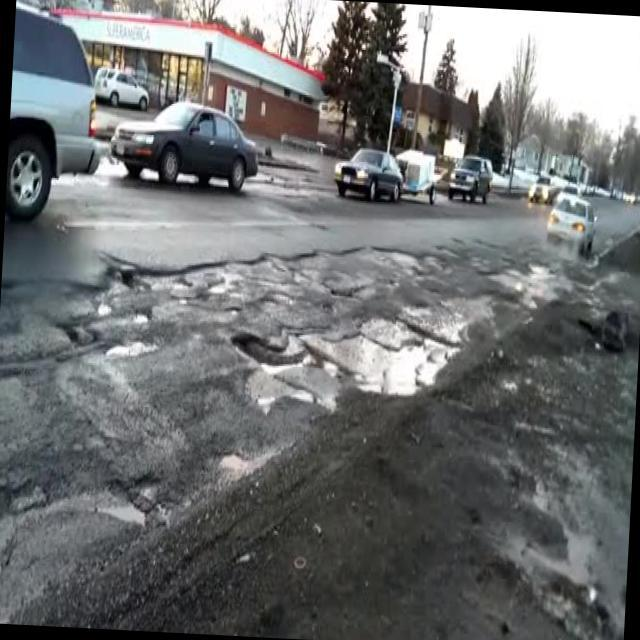Pothole: (0, 211, 488, 355), (220, 314, 457, 428), (45, 463, 159, 550)
